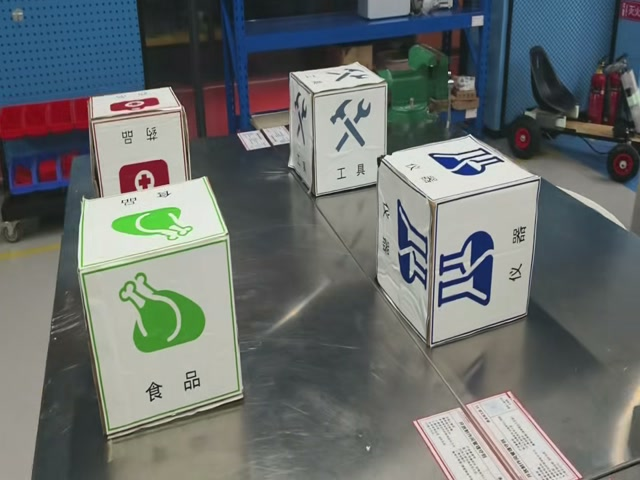Cube_food: (78, 178, 229, 276)
Cube_ins: (380, 136, 539, 205)
Cube_medicine: (89, 87, 185, 122)
Cube_tool: (290, 63, 386, 99)
